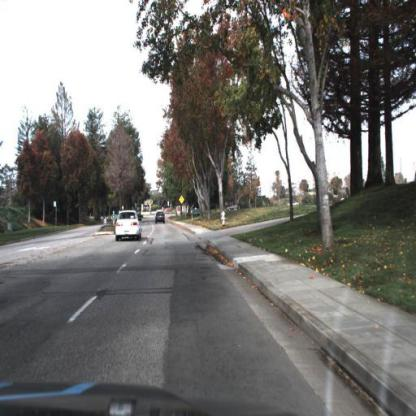car: (115, 209, 143, 245), (155, 211, 167, 226)
